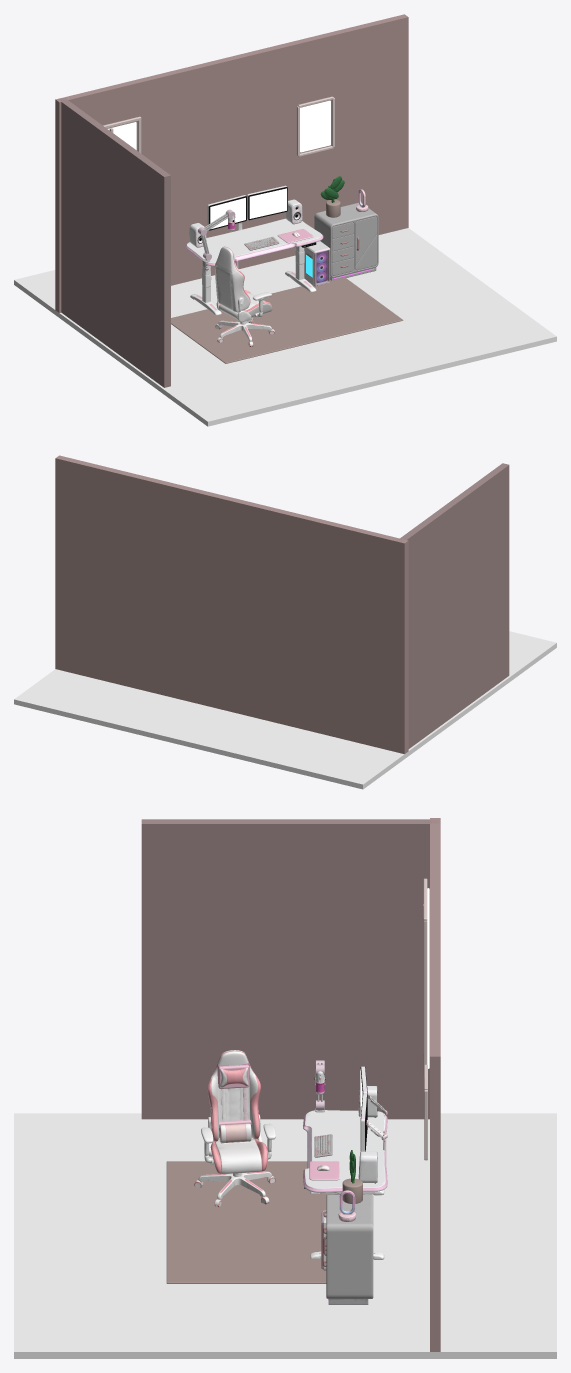
3 views of the same model, one above another, from view 1: azimuth 30°, elevation 25°; view 2: azimuth 150°, elevation 25°; view 3: azimuth 270°, elevation 25° (orthographic). The views are drawn at different scales.
Parts seen in each view (by area): view 1: Architecture_Back_Wall, Architecture_Floor, Architecture_Left_Wall, Decor_Rug, GEO_Desk_Moving_Top, GEO_Chair_Swivel_Upper, GEO_Cabinet_Body, Wall_Art_Art, GEO_Door_Right_Front, 04-pc-tower_mesh_01, Screen_Right, GEO_Desk_Fixed_Base (+2 smaller); view 2: Architecture_Back_Wall, Architecture_Left_Wall, Architecture_Floor; view 3: Architecture_Floor, Architecture_Left_Wall, Decor_Rug, Architecture_Back_Wall, GEO_Chair_Swivel_Upper, GEO_Cabinet_Body, GEO_Desk_Moving_Top, GEO_Chair_Static_Base, Window_Frame_V.001.
Part boxes in pixels (bbox=[...]): Architecture_Back_Wall: bbox=[55, 14, 408, 312]; Architecture_Floor: bbox=[14, 228, 556, 426]; Architecture_Left_Wall: bbox=[58, 98, 170, 387]; Decor_Rug: bbox=[171, 277, 403, 363]; GEO_Desk_Moving_Top: bbox=[185, 218, 323, 274]; GEO_Chair_Swivel_Upper: bbox=[215, 246, 272, 321]; GEO_Cabinet_Body: bbox=[314, 202, 378, 280]; Wall_Art_Art: bbox=[300, 100, 330, 152]; GEO_Door_Right_Front: bbox=[355, 216, 377, 270]; 04-pc-tower_mesh_01: bbox=[304, 241, 330, 286]; Screen_Right: bbox=[249, 188, 286, 218]; GEO_Desk_Fixed_Base: bbox=[190, 263, 316, 315]; Architecture_Back_Wall: bbox=[55, 455, 408, 753]; Architecture_Left_Wall: bbox=[396, 463, 509, 748]; Architecture_Floor: bbox=[14, 631, 556, 789]; Architecture_Floor: bbox=[14, 1113, 556, 1358]; Architecture_Left_Wall: bbox=[141, 819, 440, 1119]; Decor_Rug: bbox=[166, 1161, 334, 1283]; Architecture_Back_Wall: bbox=[430, 818, 440, 1351]; GEO_Chair_Swivel_Upper: bbox=[201, 1050, 275, 1173]; GEO_Cabinet_Body: bbox=[326, 1194, 373, 1304]; GEO_Desk_Moving_Top: bbox=[303, 1110, 387, 1194]; GEO_Chair_Static_Base: bbox=[194, 1171, 275, 1206]; Window_Frame_V.001: bbox=[423, 921, 427, 1075].
Bounding box in the file's own units: 5.2 × 3.07 × 5.
32 materials, 13 textured.
